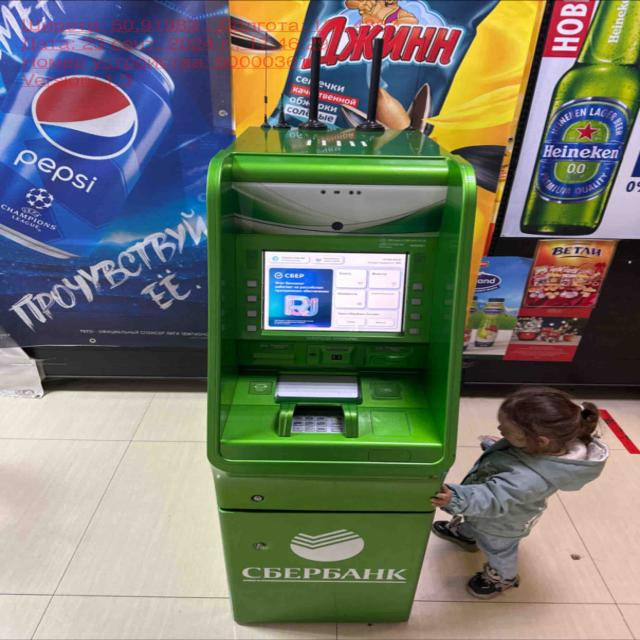bank: (203, 123, 476, 630)
